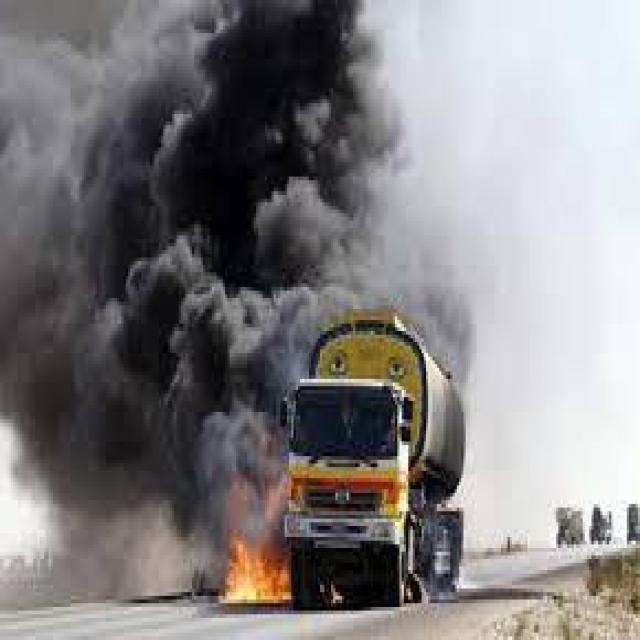fire: (226, 461, 292, 599)
smoke: (0, 0, 377, 441)
